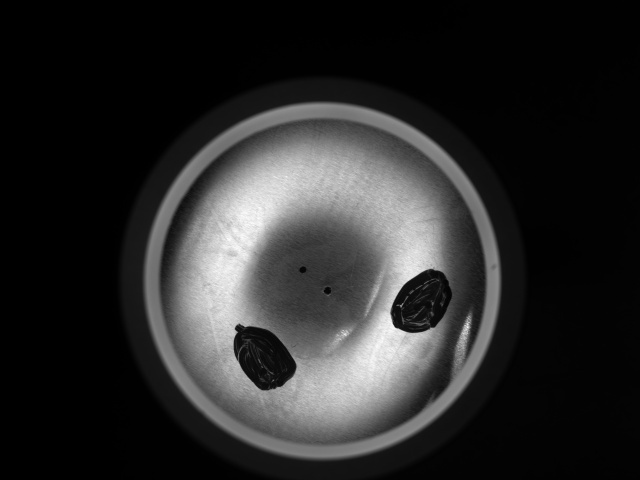zang_wu: (230, 322, 298, 393), (388, 267, 453, 334)
zhen_kong: (320, 285, 334, 296), (296, 264, 308, 274)
